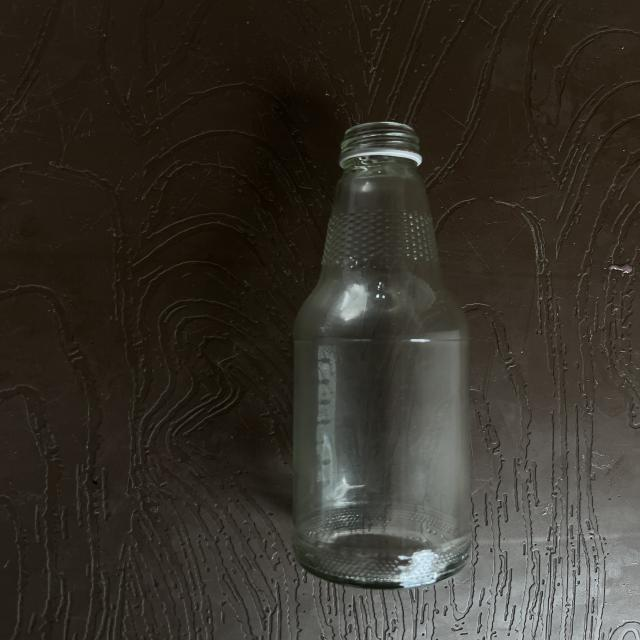Glass_Bottle: (293, 122, 470, 588)
